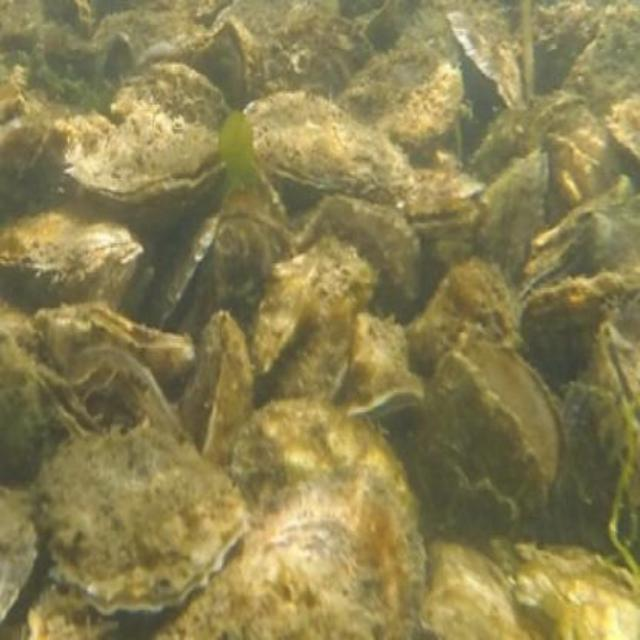Oyster-Closed: (107, 401, 431, 638), (38, 427, 248, 621), (410, 352, 556, 549), (248, 244, 383, 405), (457, 334, 564, 487), (256, 99, 411, 197), (522, 271, 634, 400), (405, 262, 529, 376), (0, 209, 139, 305), (476, 144, 557, 288), (346, 45, 463, 144), (429, 542, 538, 638), (340, 312, 425, 425), (256, 252, 313, 383), (196, 22, 267, 115), (410, 189, 477, 245), (612, 88, 638, 160)
Oyster-Open: (73, 99, 220, 208), (185, 319, 258, 465), (590, 321, 638, 488), (96, 309, 194, 389), (30, 365, 100, 441), (527, 233, 594, 305)
